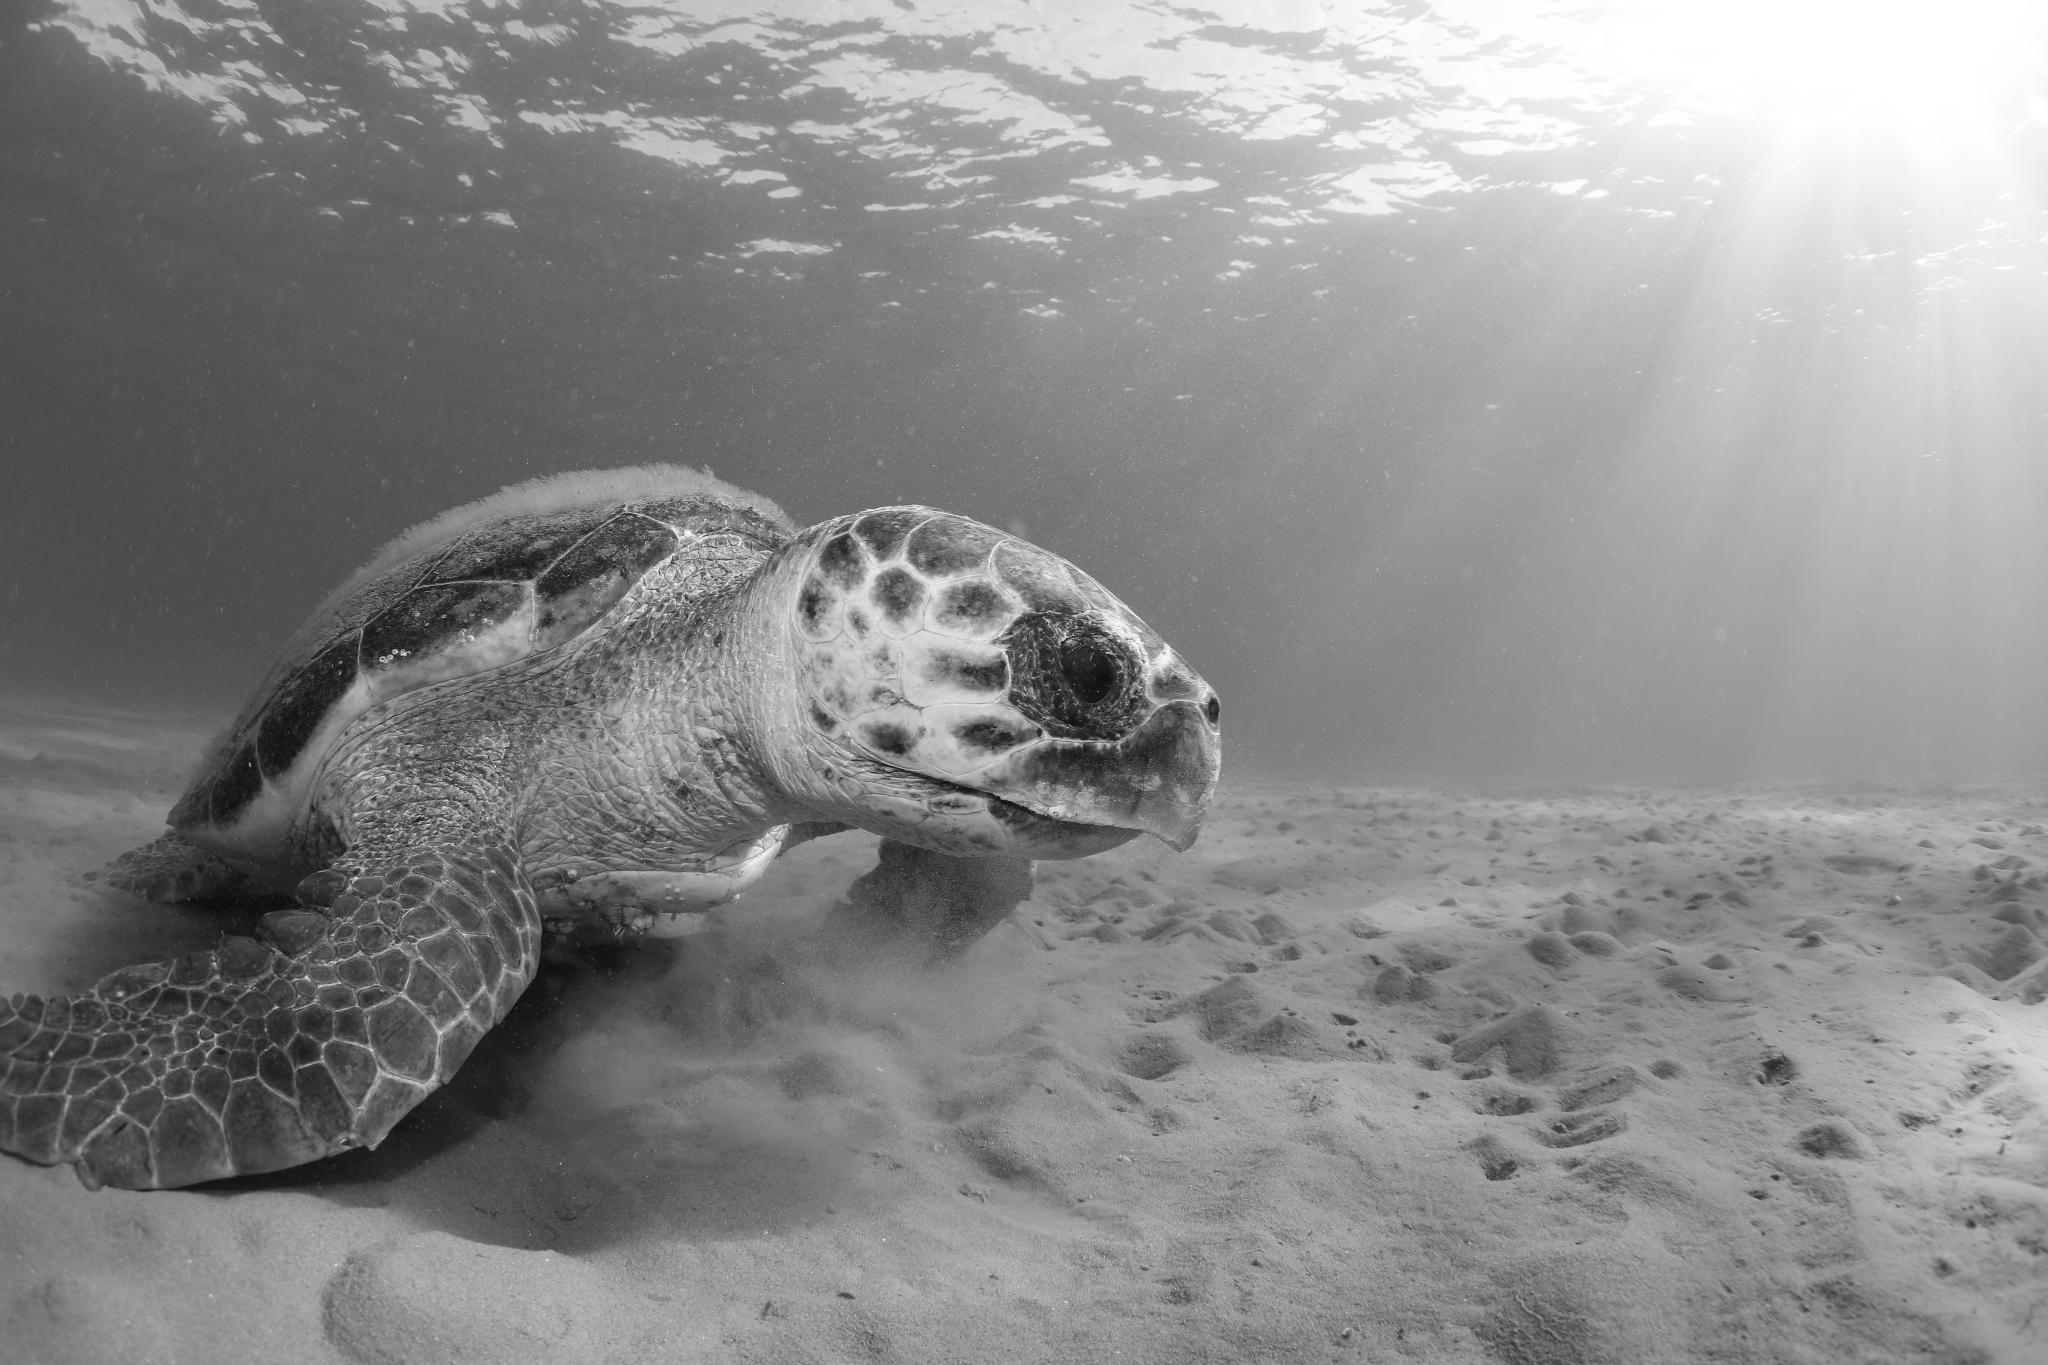Head: (729, 507, 1220, 860)
